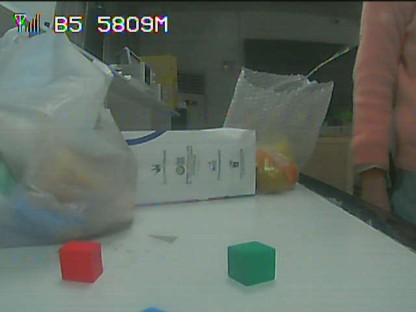g: (229, 246, 276, 280)
r: (61, 241, 102, 279)
